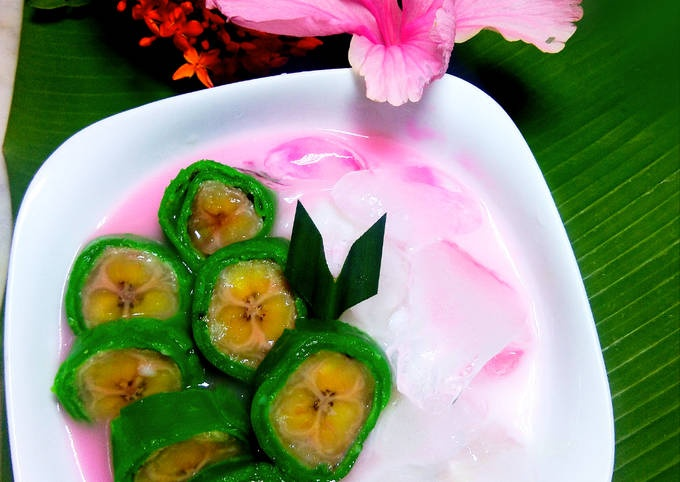pisang_ijo: (236, 320, 407, 480)
